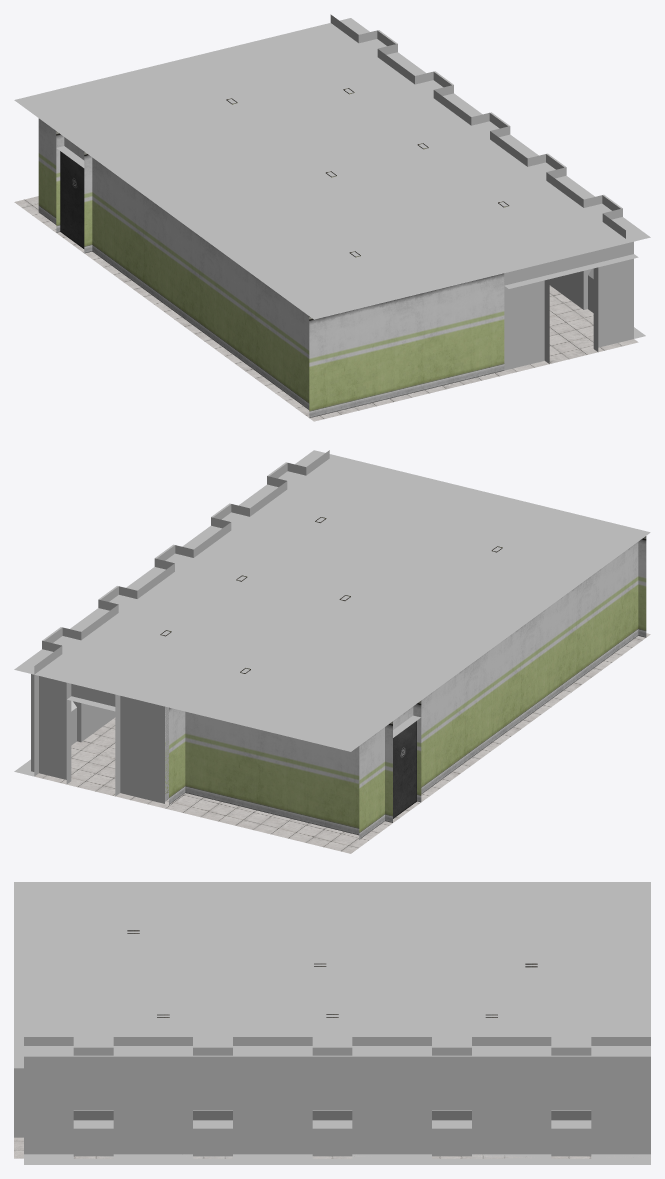
Rendered from LC_room2_medibay.obj.
3 views of the same model, one above another, from view 1: azimuth 30°, elevation 25°; view 2: azimuth 150°, elevation 25°; view 3: azimuth 270°, elevation 25° (orthographic). The views are drawn at different scales.
Parts seen in each view (by area): view 1: grp1, grp7, grp5, grp4, grp10; view 2: grp1, grp7, grp5, grp4, grp10; view 3: grp1, grp5, grp4.
Boxes of the visible parts, <box> form: grp1: <box>14,18,650,319</box>; grp7: <box>38,118,504,417</box>; grp5: <box>56,14,645,370</box>; grp4: <box>14,196,638,421</box>; grp10: <box>60,151,84,248</box>; grp1: <box>14,450,650,751</box>; grp7: <box>165,536,646,839</box>; grp5: <box>14,450,420,803</box>; grp4: <box>35,633,650,853</box>; grp10: <box>393,721,416,818</box>; grp1: <box>14,882,650,1056</box>; grp5: <box>14,1037,650,1164</box>; grp4: <box>14,1137,644,1158</box>.
Bounding box in the file's own units: 1328 × 416 × 2048.
